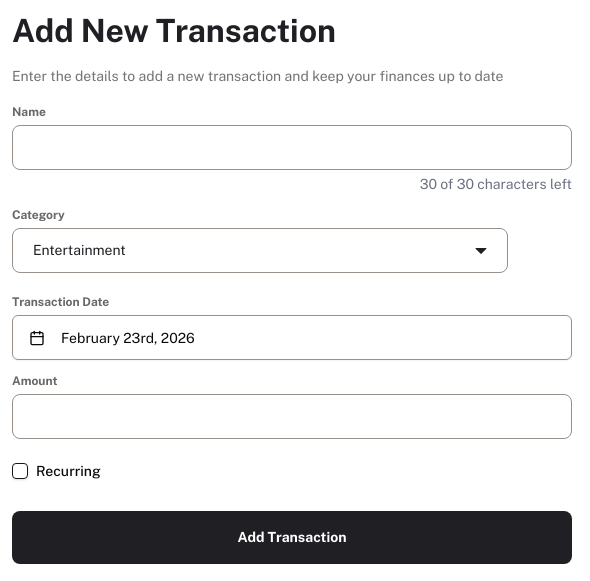
Test: Add Transaction Modal › should show validation errors if required fields are empty
Click the button "Add Transaction": click(292, 538) [12,511,572,564]
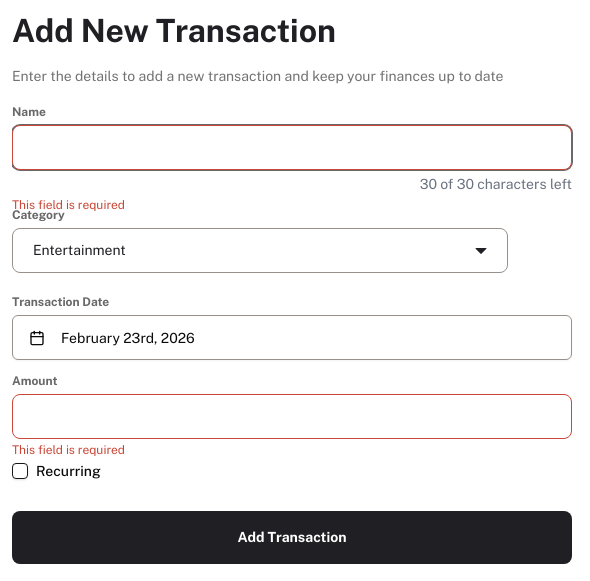
Expected: the text "This field is required" is shown 2 times, [12,198,125,212]; [12,443,125,457]
